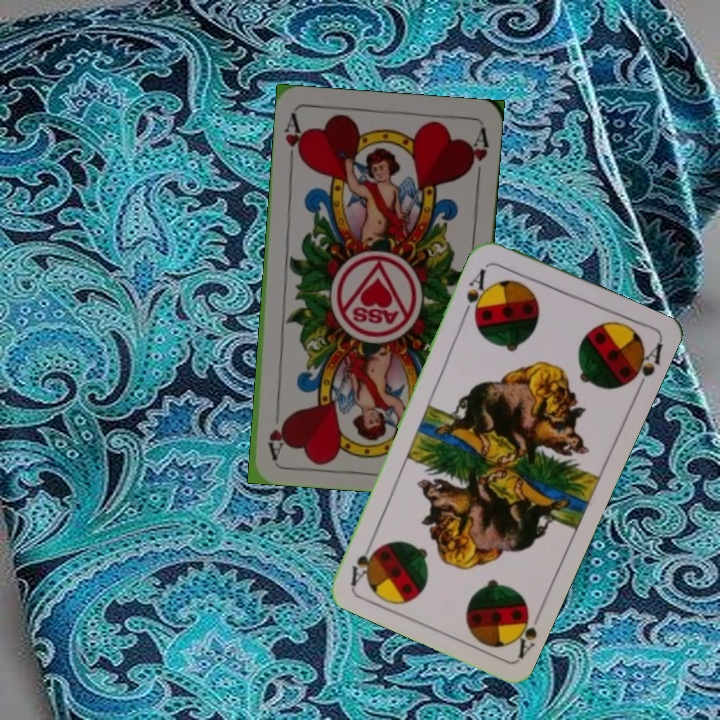HA: (280, 110, 307, 169)
SA: (505, 600, 543, 661), (459, 264, 493, 321)
